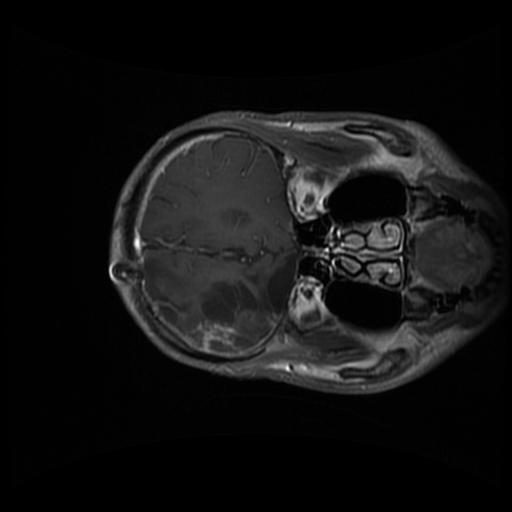glioma: (200, 248, 296, 354)
